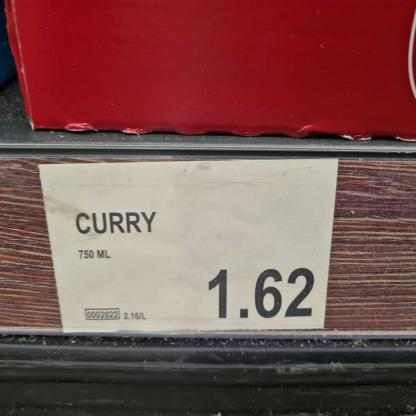prtg: (40, 159, 340, 333)
